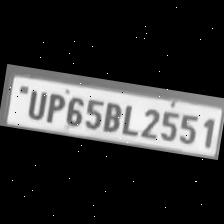1: (196, 114, 220, 148)
2: (136, 104, 162, 140)
5: (80, 94, 106, 130), (175, 109, 200, 145), (156, 106, 180, 142)
6: (61, 92, 85, 128)
B: (99, 98, 122, 134)
L: (117, 101, 141, 137)
P: (41, 88, 65, 124)
U: (22, 86, 48, 121)
